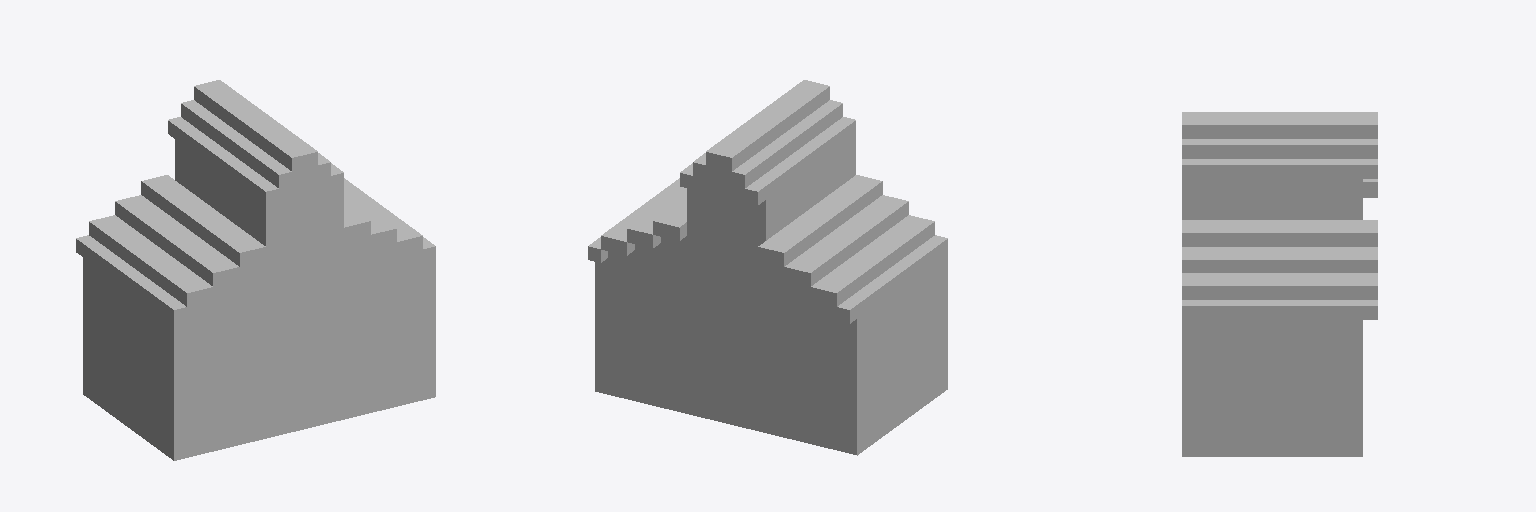
Rendered from green.obj.
3 views of the same model, side by side, from view 1: azimuth 30°, elevation 25°; view 2: azimuth 150°, elevation 25°; view 3: azimuth 270°, elevation 25° (orthographic).
Bounding box in the file's own units: 20 × 20 × 13.